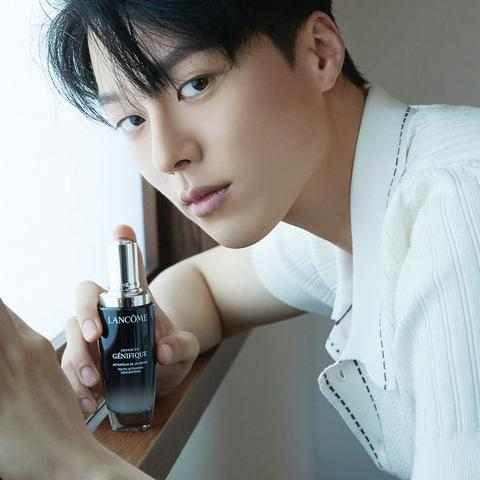opened: (94, 60, 240, 152)
